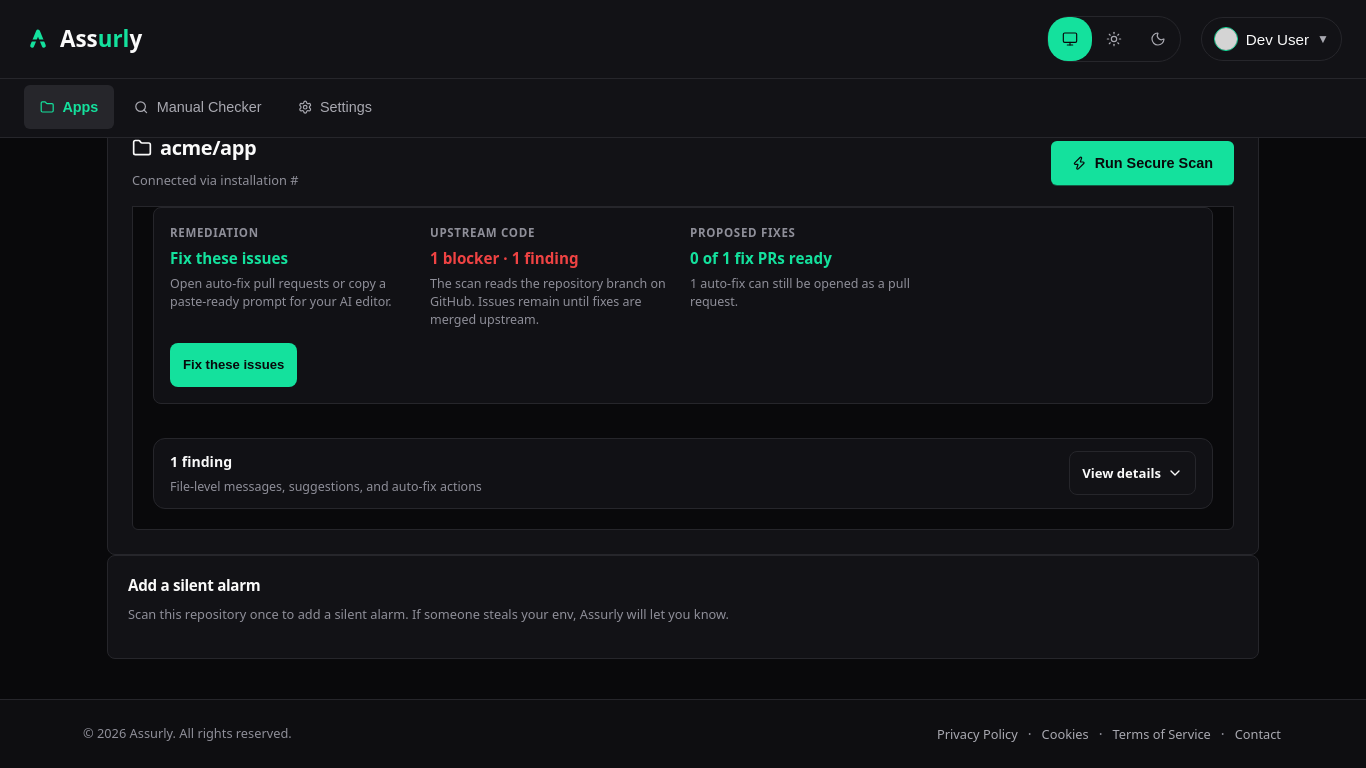
Scenario: Auto-fix PR — handleCreateFixPr › replaces the "Fix it" button with a "View Fix PR" link on success
(page scrolled)
Click the heading with test id "scan-findings-details-toggle".
click(201, 462)  # box top-left (154, 439), bottom-right (1212, 508)
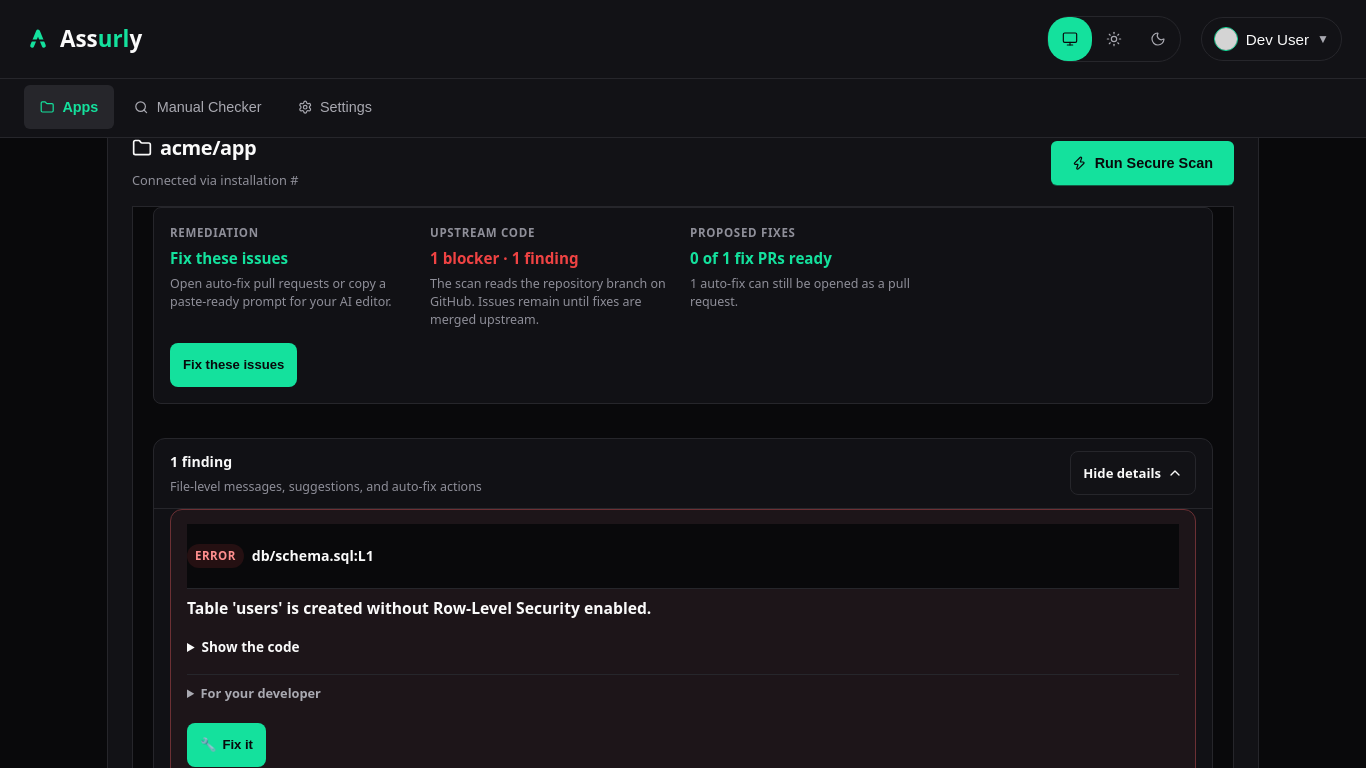
Now the button "🔧 Fix it" is shown
Click the button "🔧 Fix it".
click(226, 745)  # box top-left (187, 723), bottom-right (266, 767)
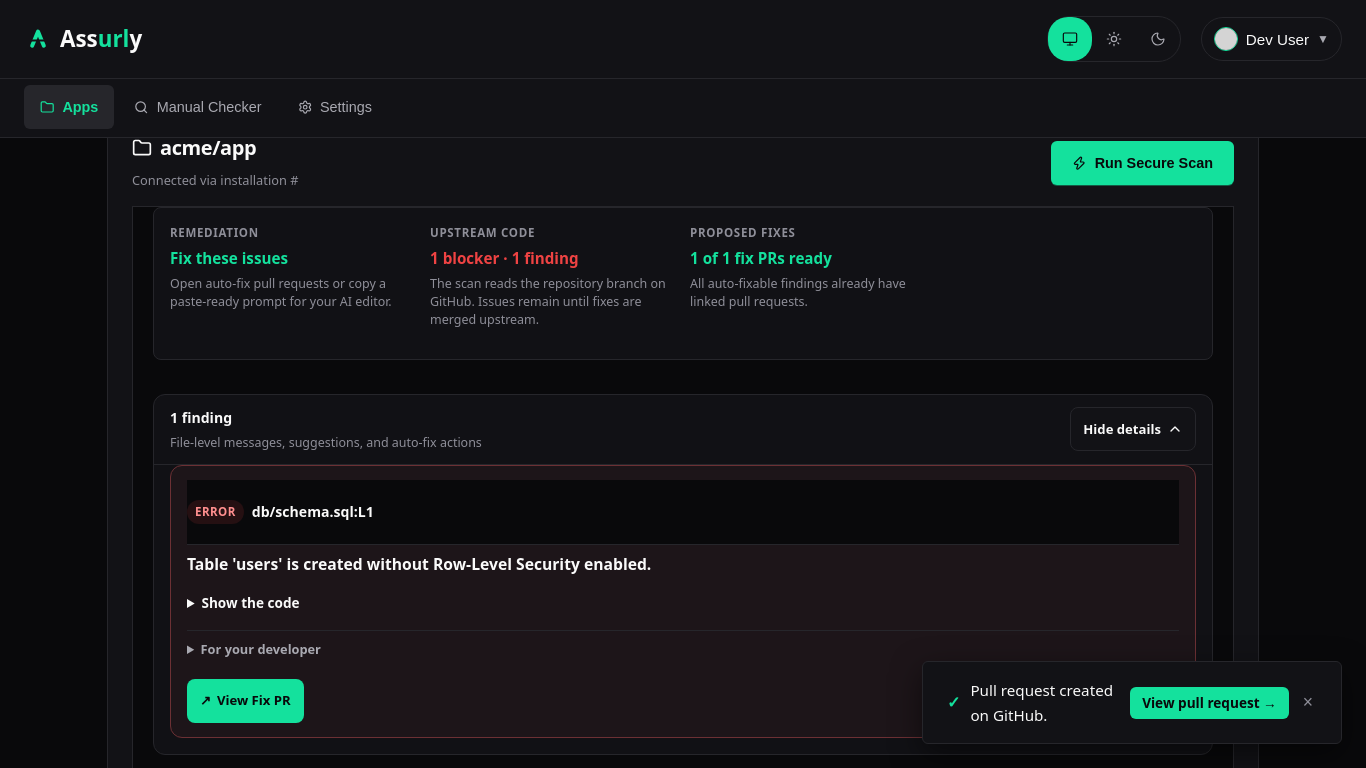
Now the button "Fix it" is gone
